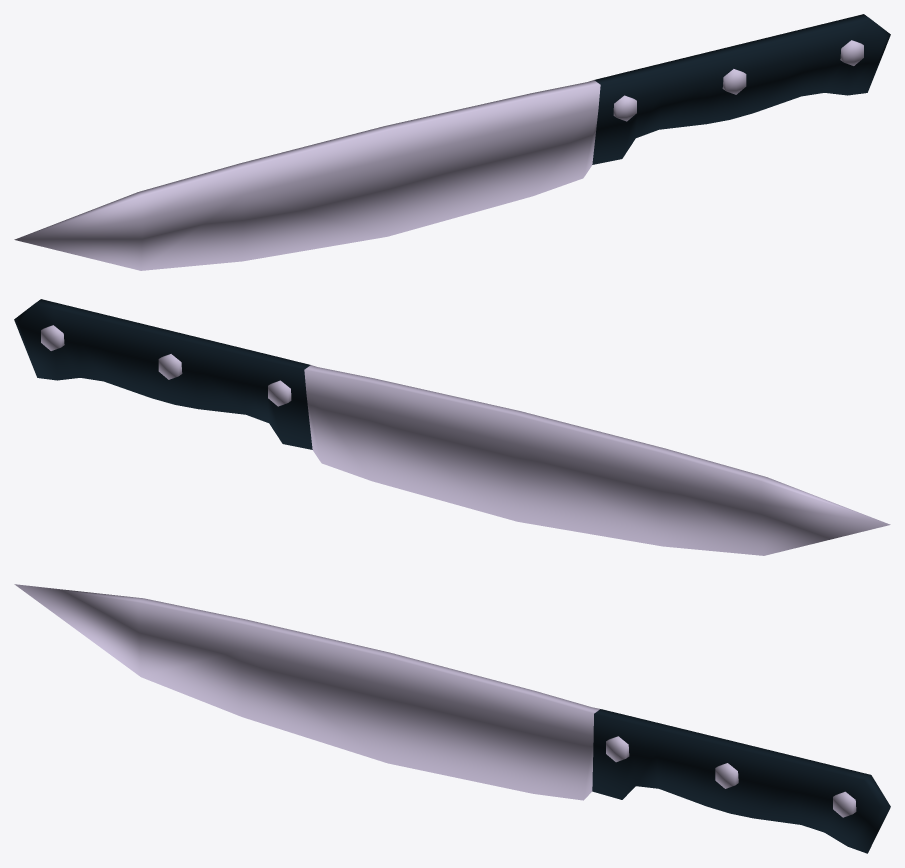
File: Knive.fbx
3 views of the same model, one above another, from view 1: azimuth 30°, elevation 25°; view 2: azimuth 150°, elevation 25°; view 3: azimuth 330°, elevation 25° (orthographic).
Visible parts, largest first — view 1: Knive; view 2: Knive; view 3: Knive.
Part boxes in pixels (box(x1,y1,x2,y2)): Knive: box(14, 14, 890, 270); Knive: box(14, 299, 890, 555); Knive: box(14, 584, 890, 853).
Size of the model in its own units: 73.34 by 8.68 by 1.59.
